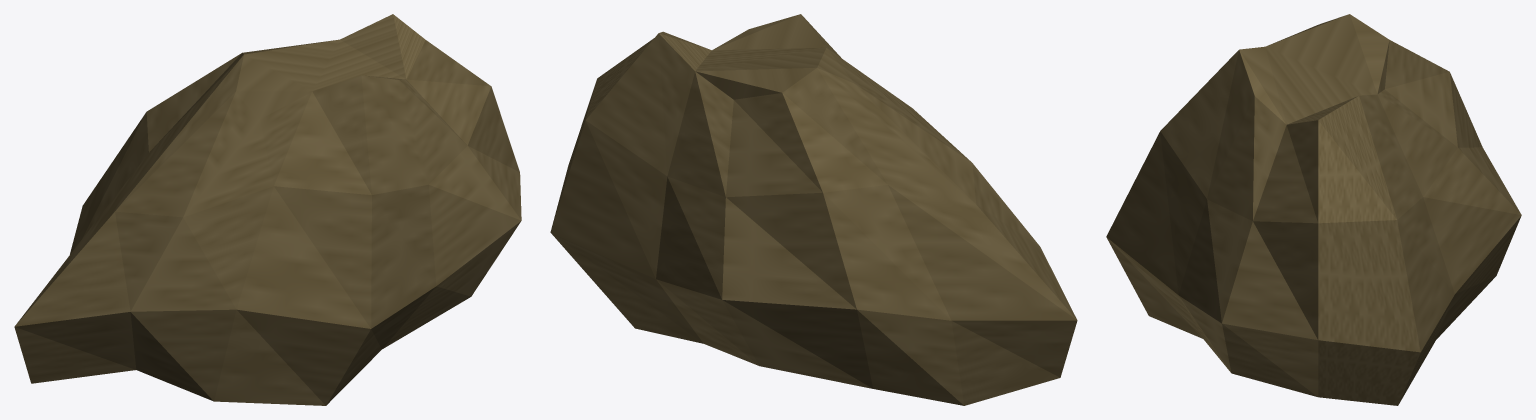
File: rock-strata-v121-lod0.glb
The picture shows the model from 3 angles, left to right: view 1: azimuth 30°, elevation 25°; view 2: azimuth 150°, elevation 25°; view 3: azimuth 270°, elevation 25°; orthographic projection. The views are drawn at different scales.
Size of the model in its own units: 0.6912 by 0.3678 by 0.4506.
Materials: 1 (1 with a texture image).
